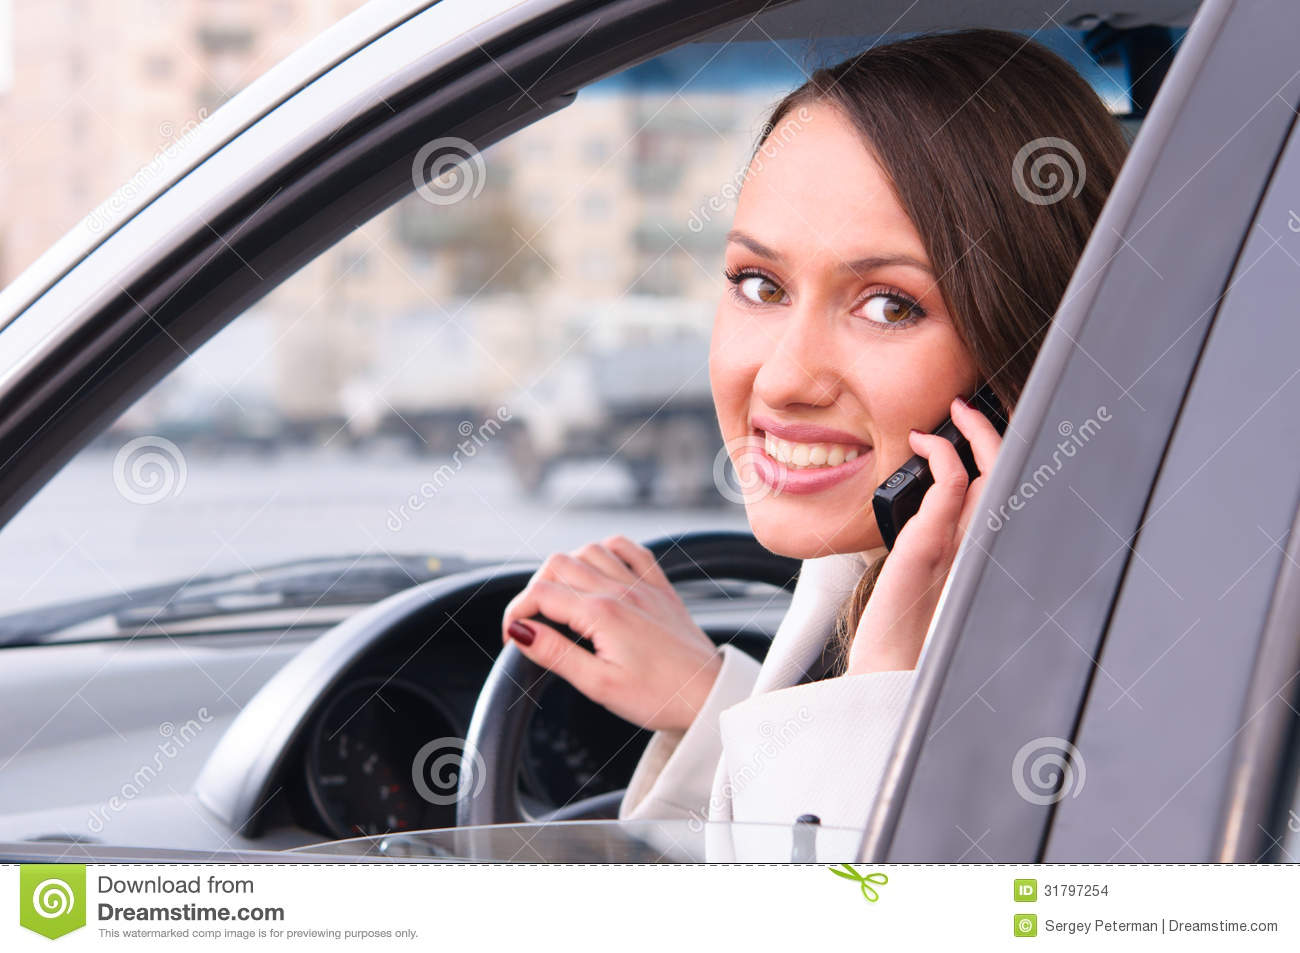talk: (699, 216, 1015, 672)
